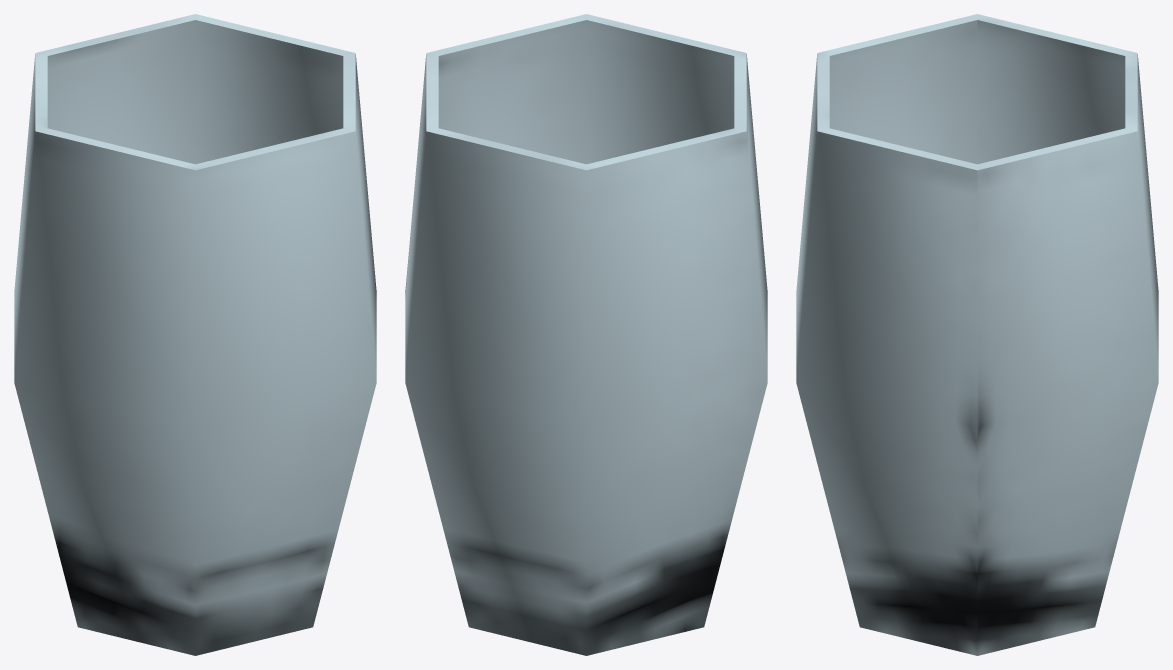
Rendered from EmptyGlassV12.fbx.
3 views of the same model, side by side, from view 1: azimuth 30°, elevation 25°; view 2: azimuth 150°, elevation 25°; view 3: azimuth 270°, elevation 25° (orthographic).
Visible parts, largest first — view 1: Glasses.013; view 2: Glasses.013; view 3: Glasses.013.
Boxes of the visible parts, <box> form: Glasses.013: <box>14,14,376,655</box>; Glasses.013: <box>405,14,767,655</box>; Glasses.013: <box>796,14,1158,655</box>.
Size of the model in its own units: 0.1664 by 0.222 by 0.1441.
